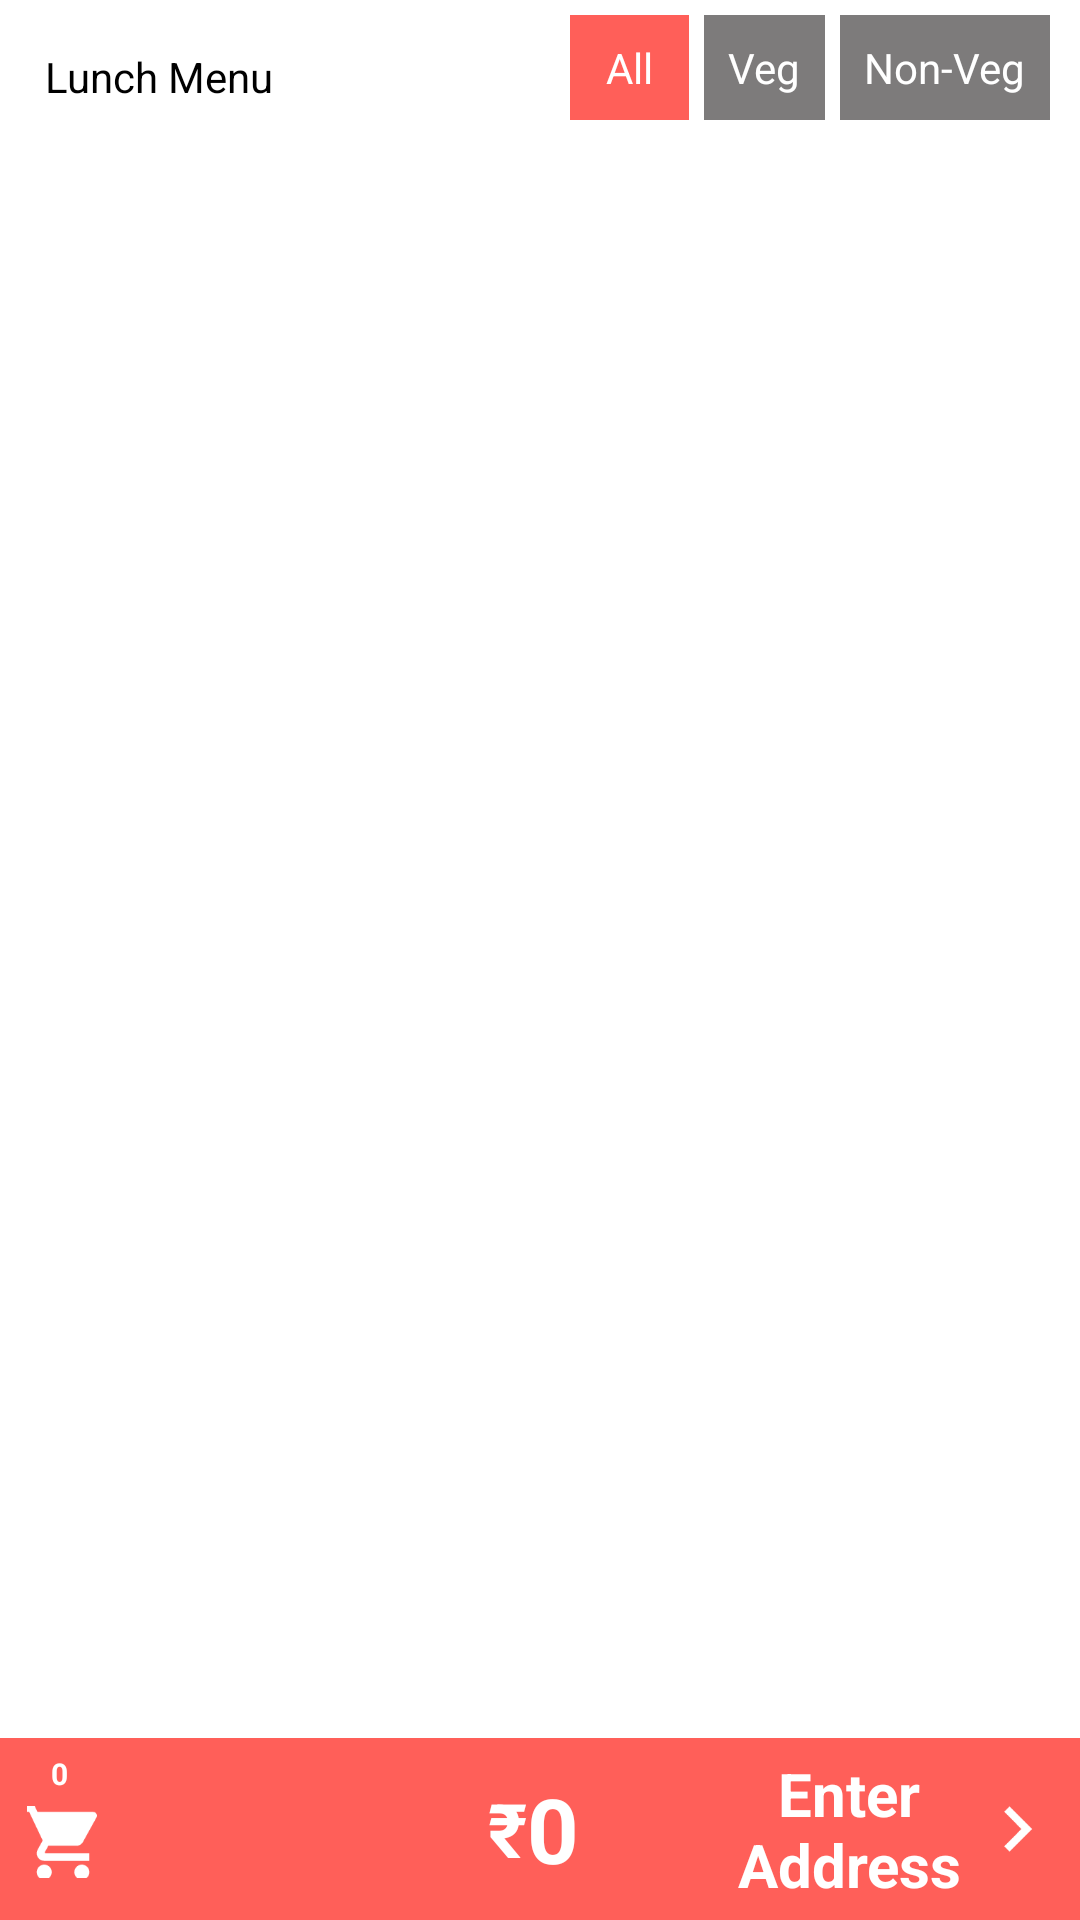

Icons on this 1080w x 1920h Android screen, each with the point to tap as [x,y]:
cart: [62,1842]
next: [1018,1829]
